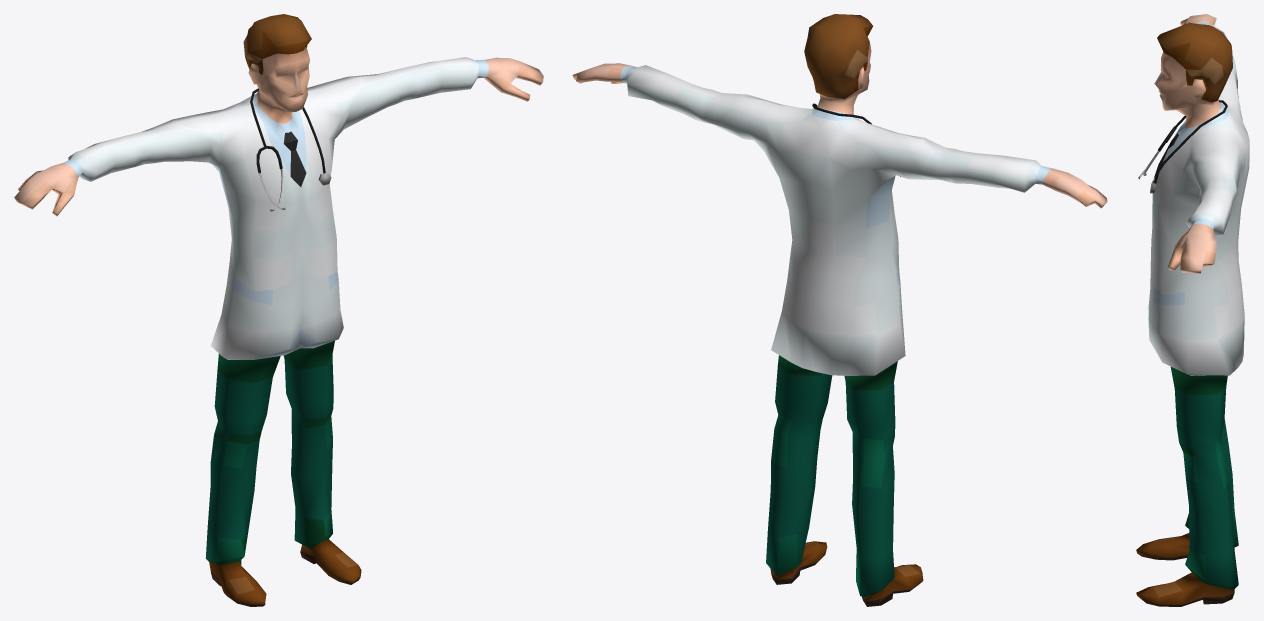
The model's file is Doctor_Male_B-model.obj.
3 views of the same model, side by side, from view 1: azimuth 30°, elevation 25°; view 2: azimuth 150°, elevation 25°; view 3: azimuth 270°, elevation 25° (orthographic). The views are drawn at different scales.
Visible parts, largest first — view 1: Doctor_Male_B, stetho; view 2: Doctor_Male_B; view 3: Doctor_Male_B, stetho.
Boxes of the visible parts, left/top/right/bottom form: Doctor_Male_B: left=14, top=14, right=543, bottom=606; stetho: left=250, top=88, right=331, bottom=211; Doctor_Male_B: left=572, top=14, right=1107, bottom=606; Doctor_Male_B: left=1136, top=14, right=1249, bottom=606; stetho: left=1138, top=100, right=1227, bottom=193.
Size of the model in its own units: 168 by 171 by 31.91.
